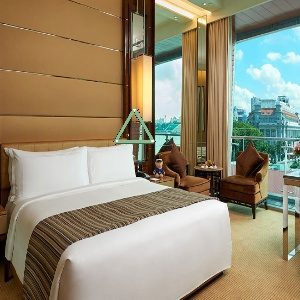triangle: (110, 105, 158, 147)
